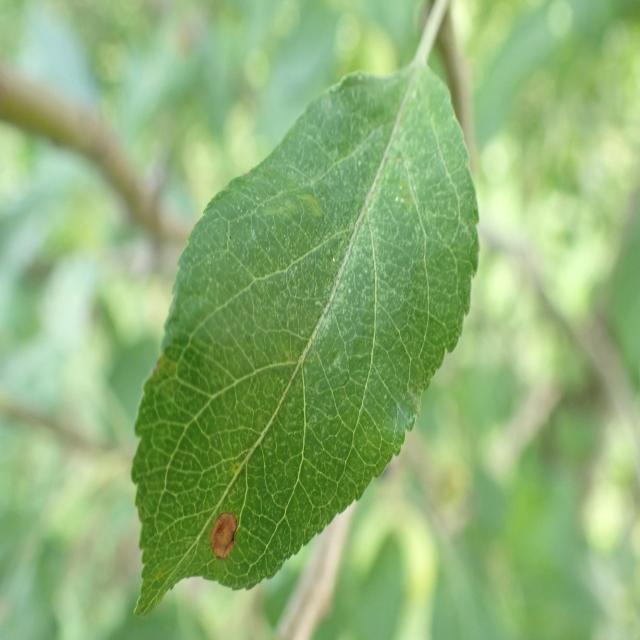Black Rot: (199, 508, 250, 591)
